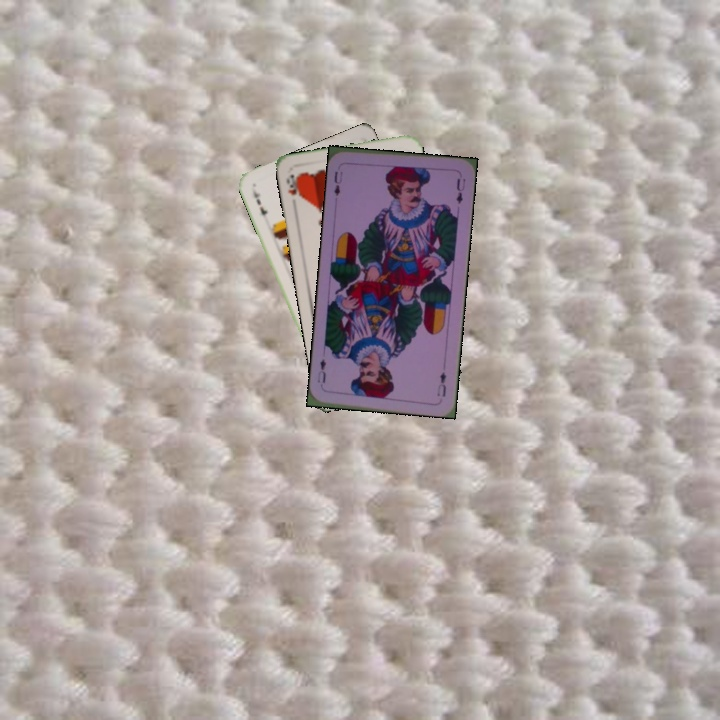E7: (248, 185, 270, 218)
EU: (433, 368, 449, 399), (330, 167, 345, 198)
HO: (282, 170, 304, 202)
